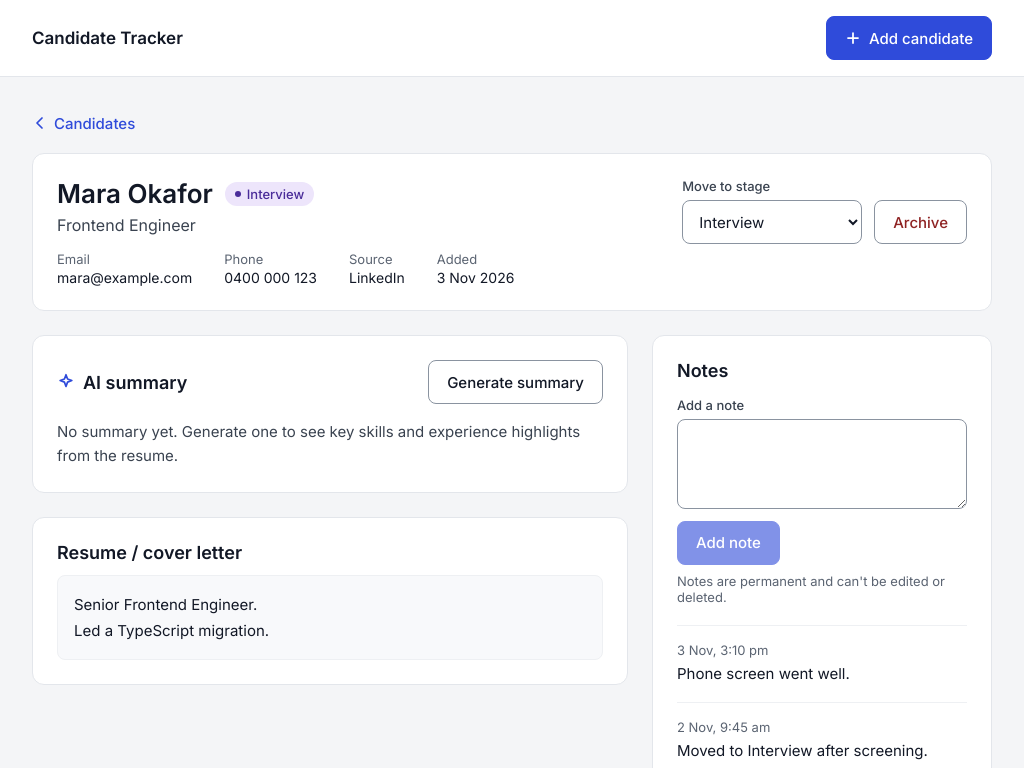
it: candidate detail: AI summary › offers to generate a summary when there is none, then shows it
Expected: the heading "Mara Okafor" is shown, [57,178,213,209]
Expected: the element "AI summary" shows "No summary yet.", [57,422,580,465]
Click the button "Generate summary": (516, 382) [428,360,603,404]
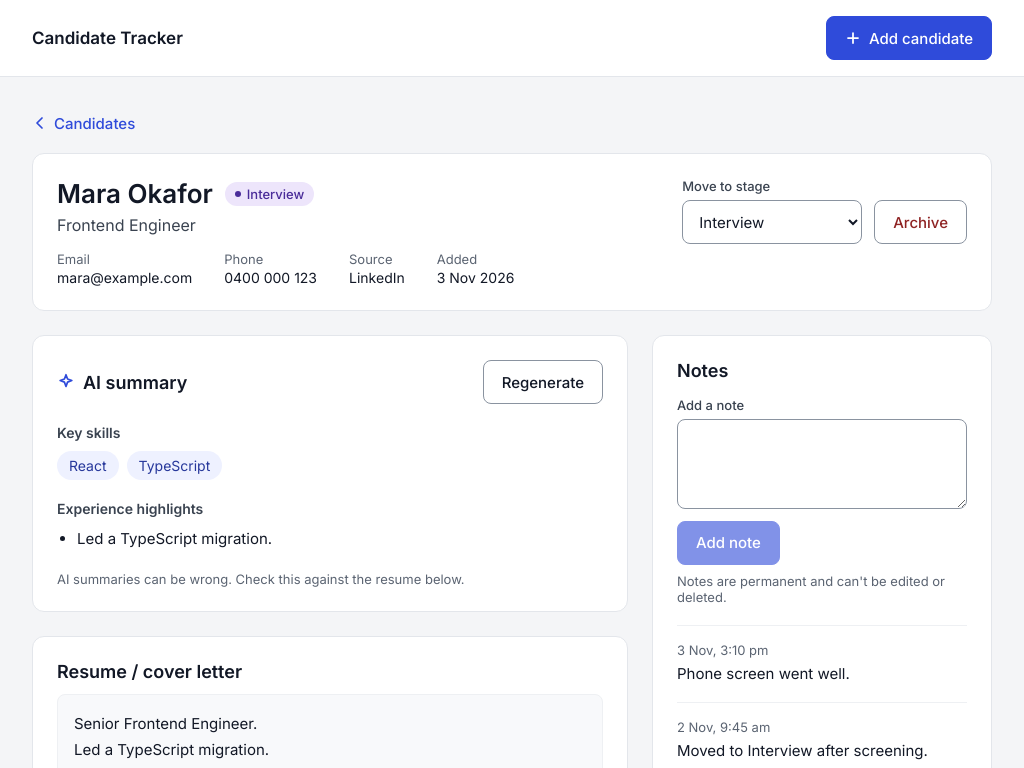
Expected: the list item "TypeScript" is shown, [126,451,222,480]
Expected: the list item "Led a TypeScript migration." is shown, [77,529,272,548]
Expected: the button "Regenerate" is shown, [483,360,603,404]
